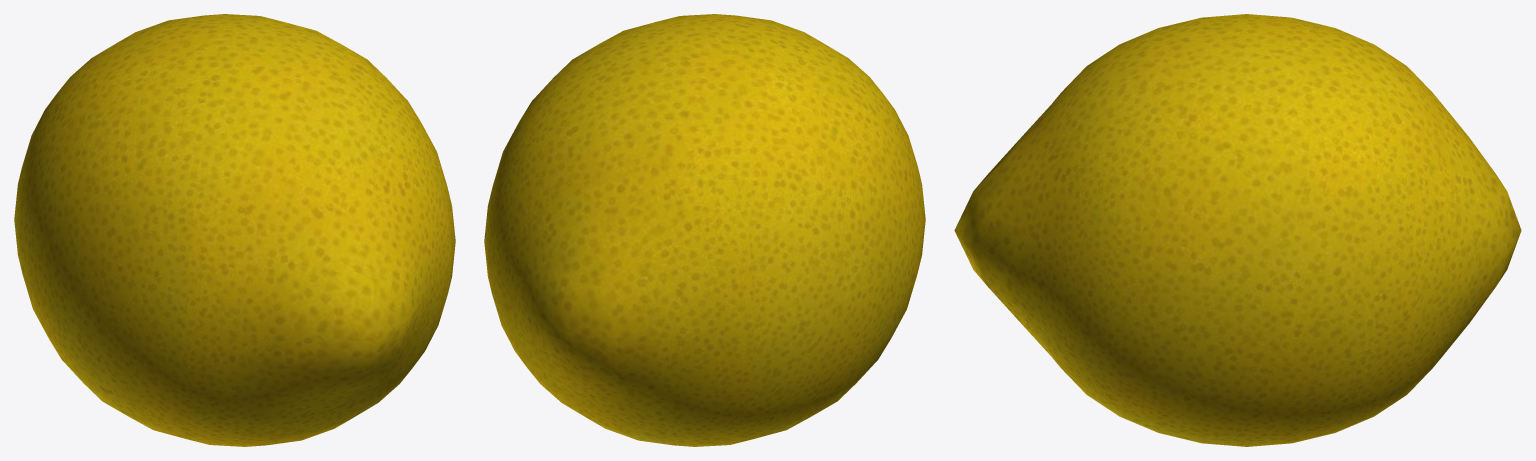
File: Lemon.fbx
3 views of the same model, side by side, from view 1: azimuth 30°, elevation 25°; view 2: azimuth 150°, elevation 25°; view 3: azimuth 270°, elevation 25° (orthographic).
Parts seen in each view (by area): view 1: Cube; view 2: Cube; view 3: Cube.
Part boxes in pixels (x1=…): Cube: x1=14, y1=14, x2=455, y2=446; Cube: x1=484, y1=14, x2=925, y2=446; Cube: x1=954, y1=14, x2=1521, y2=446.
Bounding box in the file's own units: 35.78 × 35.78 × 47.41.
1 material, 1 textured.
